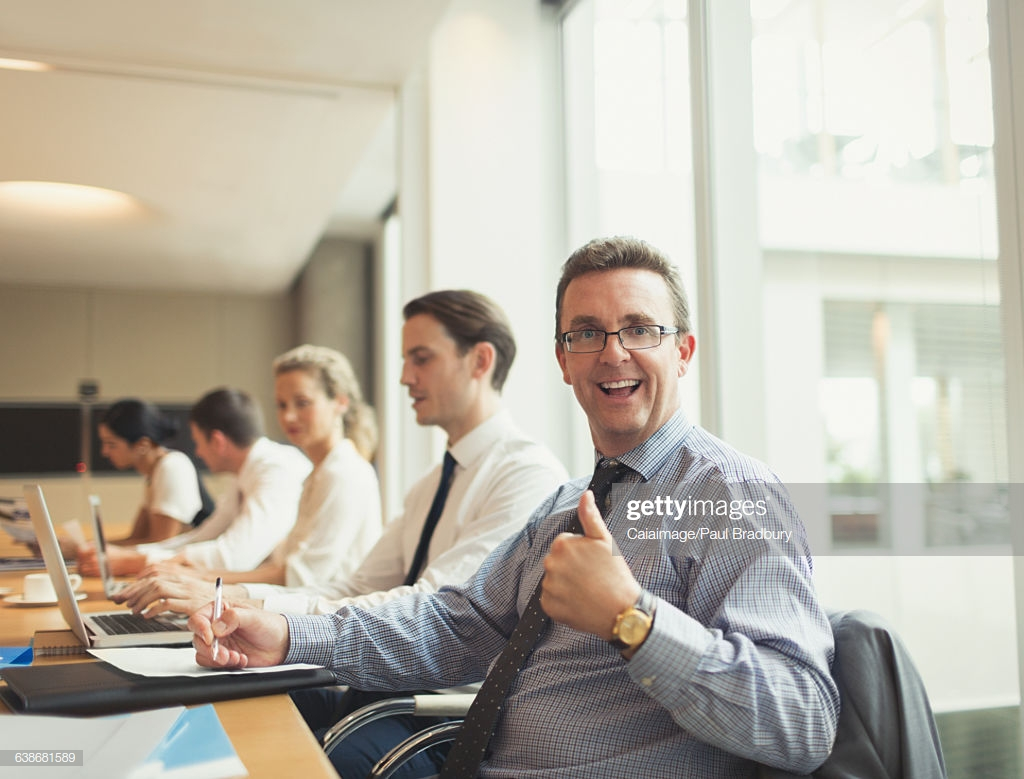thumbsup: (539, 489, 602, 625)
